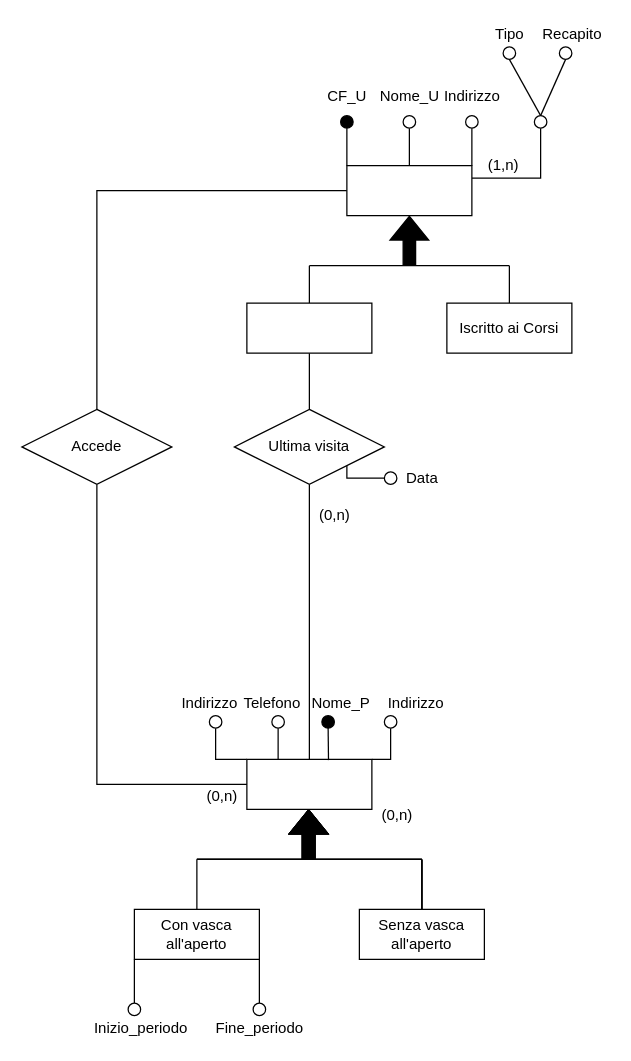
This 631x1061 diagram has some shape labels left out. The shapes that lost their labels are listed below. From the top down, each one's box as (x1, y1, x2, y2) in pixels, then its label:
(346, 164, 472, 216): Utente
(246, 302, 372, 353): Nuotatore Libero
(246, 758, 372, 809): Piscina
